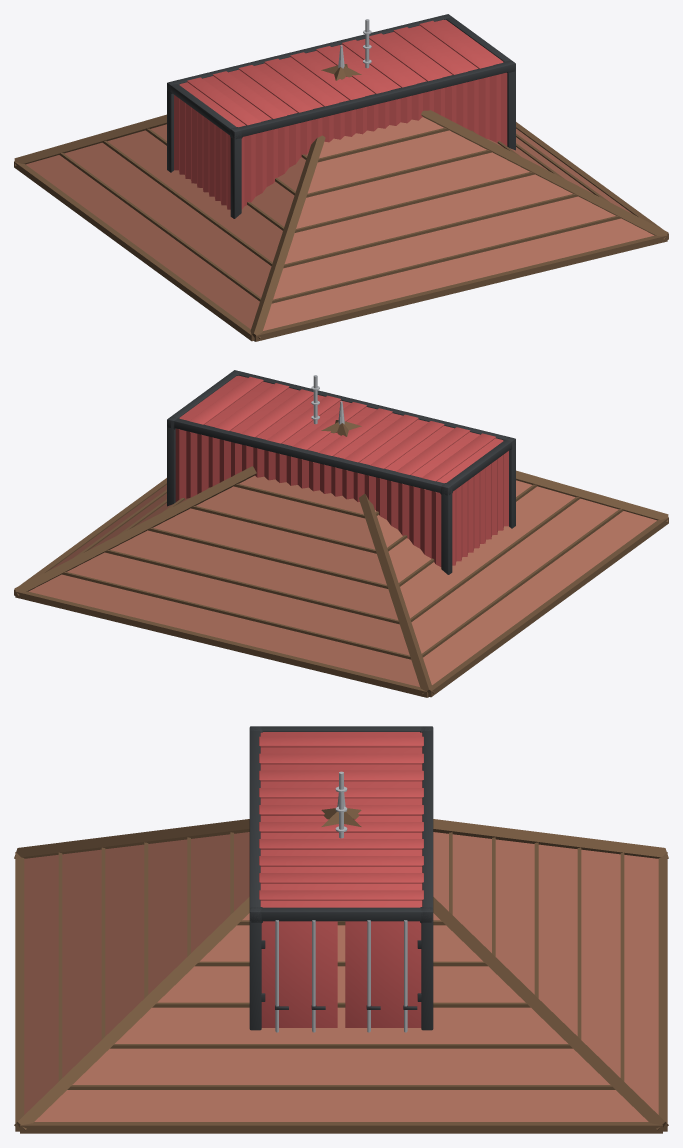
The model's file is structures.glb.
The picture shows the model from 3 angles, top to bottom: view 1: azimuth 30°, elevation 25°; view 2: azimuth 150°, elevation 25°; view 3: azimuth 270°, elevation 25°; orthographic projection. The views are drawn at different scales.
Visible parts, largest first — view 1: st_toit_tour, st_conteneur; view 2: st_toit_tour, st_conteneur; view 3: st_toit_tour, st_conteneur.
Part boxes in pixels (<box>): st_toit_tour: <box>14,45,668,341</box>; st_conteneur: <box>167,14,515,218</box>; st_toit_tour: <box>14,401,668,697</box>; st_conteneur: <box>167,370,515,574</box>; st_toit_tour: <box>14,793,668,1133</box>; st_conteneur: <box>249,726,433,1032</box>.
Bounding box in the file's own units: 8.93 × 3.65 × 8.93.
